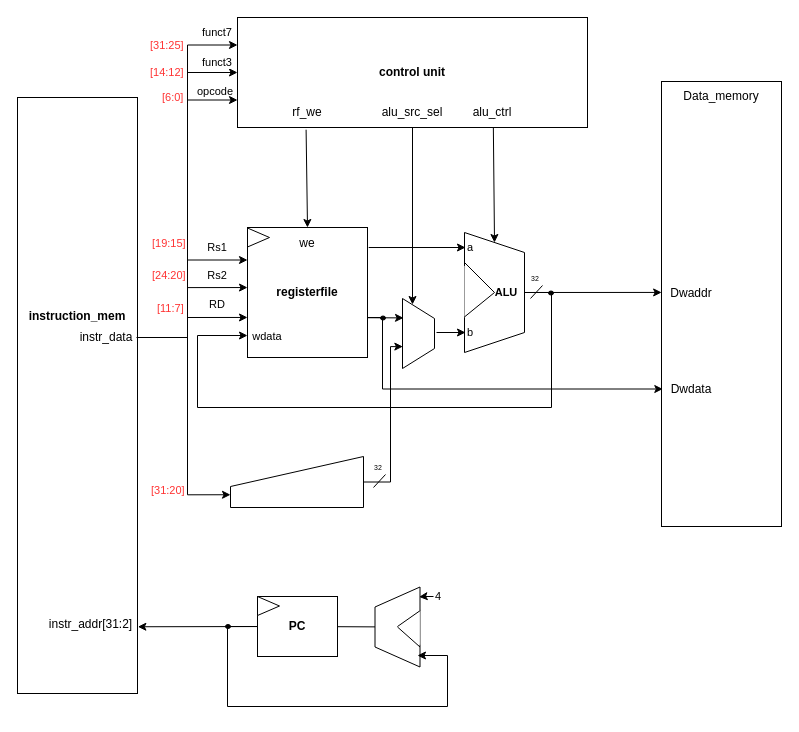
Some shapes in this 799 by 732 pixel diagram are drawn without their labels. Each missing label, with the centre of its shape:
imm extender: the point at 297,482
MUX: the point at 418,333
